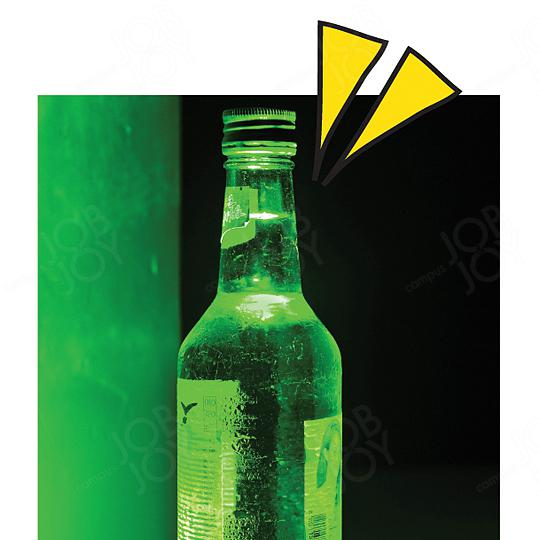soju: (172, 103, 348, 540)
